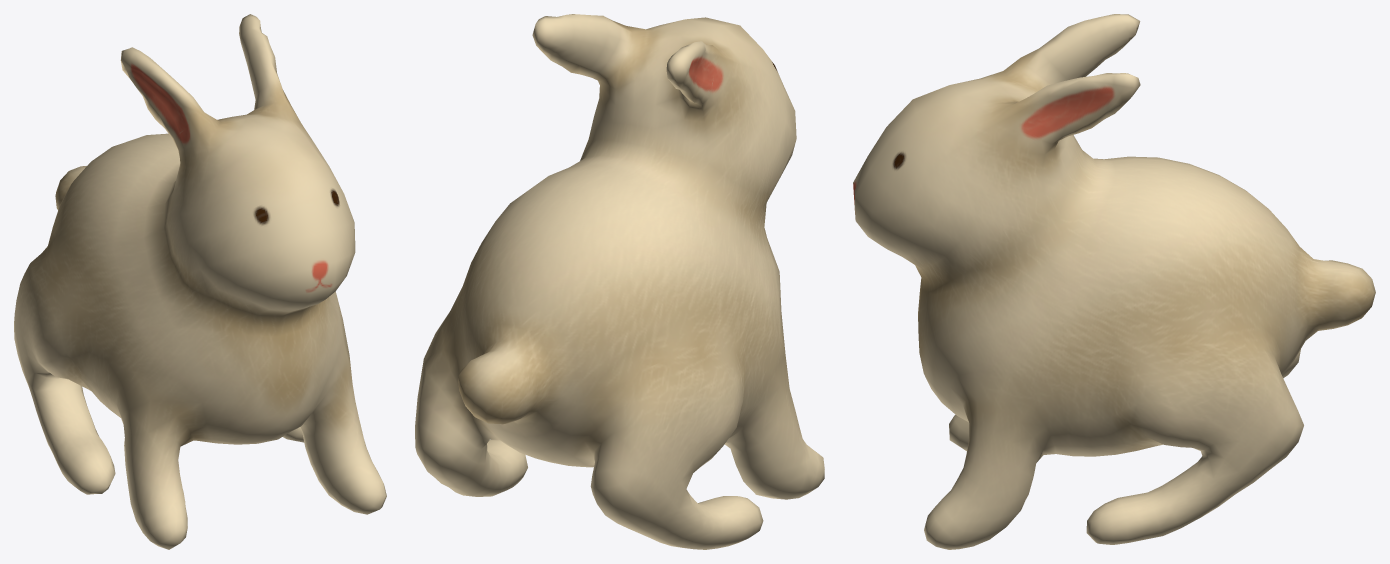
The model's file is bunnyf.obj.
3 renders of one model, left to right at view 1: azimuth 30°, elevation 25°; view 2: azimuth 150°, elevation 25°; view 3: azimuth 270°, elevation 25°, orthographic. The views are drawn at different scales.
Visible parts, largest first — view 1: Group28711; view 2: Group28711; view 3: Group28711.
Part boxes in pixels (x1,y1,x2,y2): Group28711: (14, 14, 386, 549); Group28711: (415, 14, 824, 549); Group28711: (853, 14, 1375, 549).
Size of the model in its own units: 5.09 by 8.4 by 8.67.
Materials: 1 (1 with a texture image).
